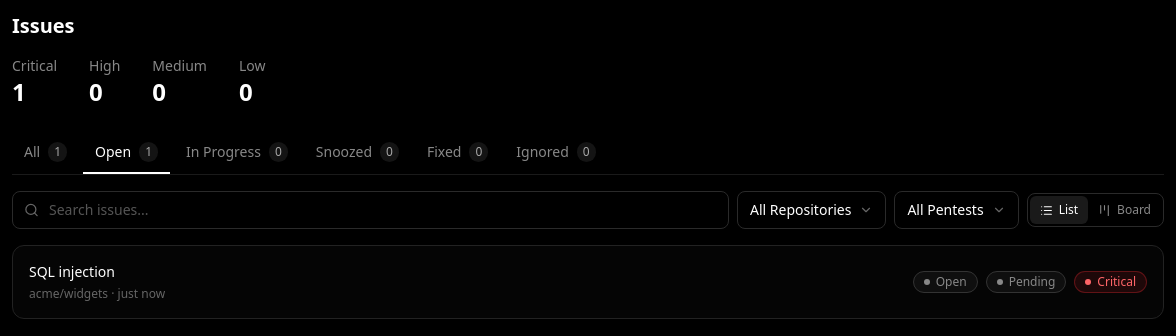
IssuesList › populates the repository and pentest filter dropdowns
Check: the text "SQL injection" is shown, box [29, 262, 115, 281]
Click the button "All Repositories" at (812, 210), box [737, 191, 886, 229]
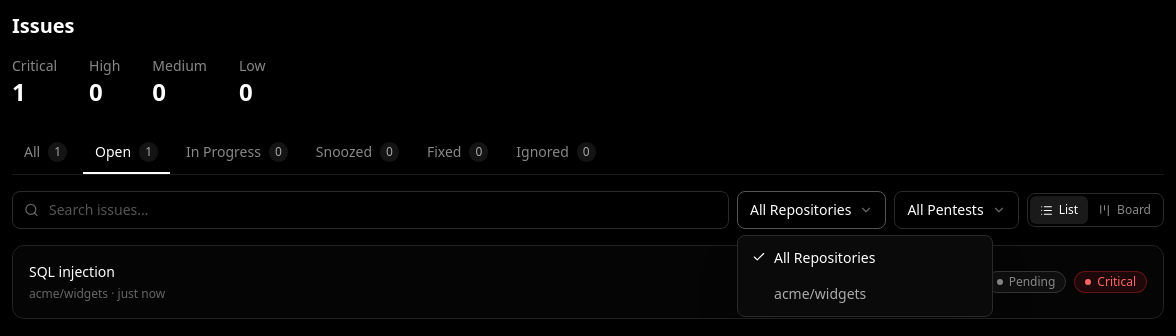
Check: the option "All Repositories" is shown, box [742, 240, 988, 276]
Check: the option "acme/widgets" is shown, box [742, 276, 988, 312]
Click the button with aria-label "Filter by pentest" at (957, 210), box [894, 191, 1019, 229]
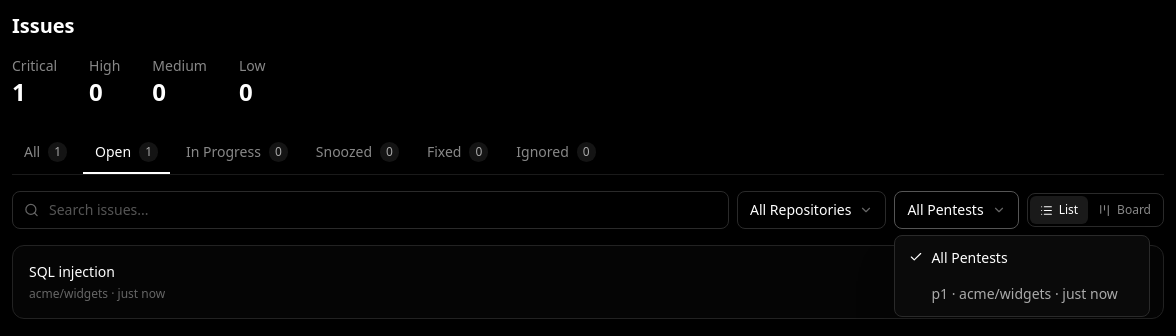
Check: the option "All Pentests" is shown, box [899, 240, 1145, 276]
Check: the option "p1 · acme/widgets · just now" is shown, box [899, 276, 1145, 312]
